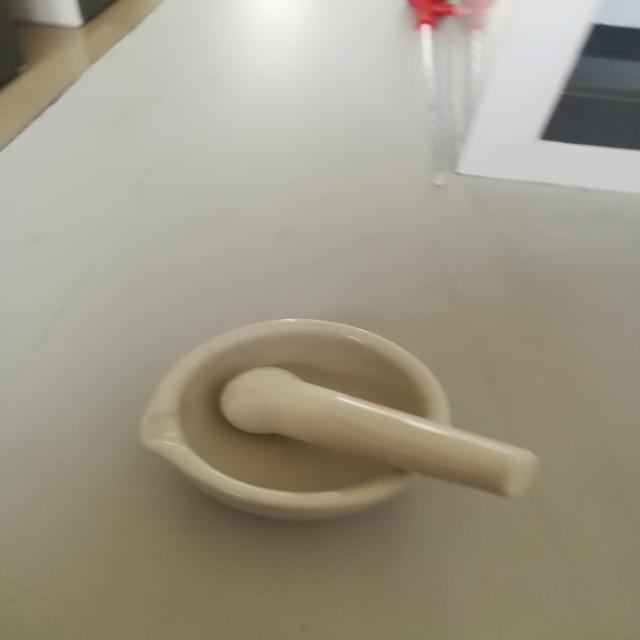Porcelain_Mortar Pestle: (102, 273, 562, 576)
